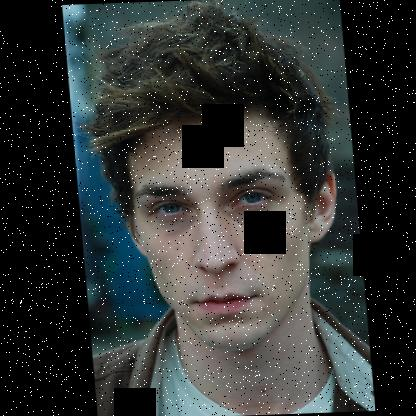Male: (113, 113, 346, 352)
